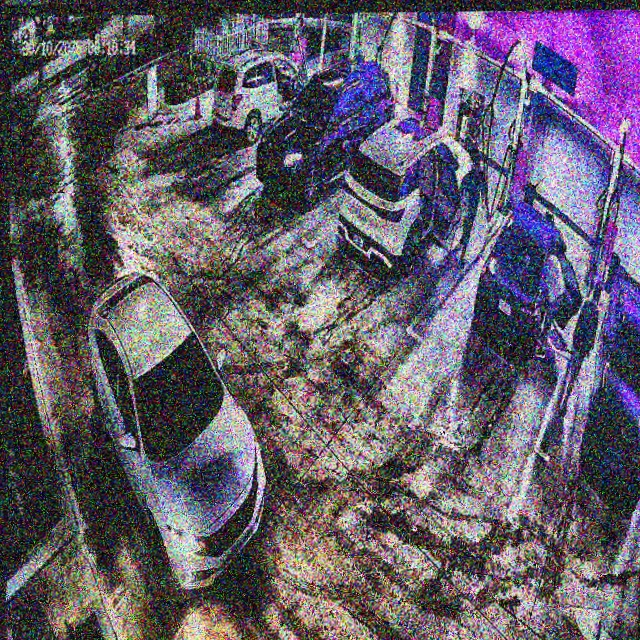Car: (80, 266, 275, 587), (338, 117, 478, 277), (254, 54, 397, 201), (471, 200, 566, 360)
